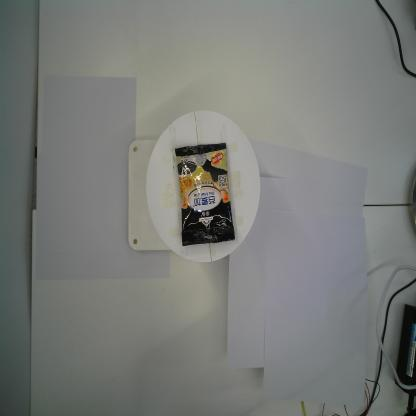Instant Drink: (174, 142, 236, 248)
